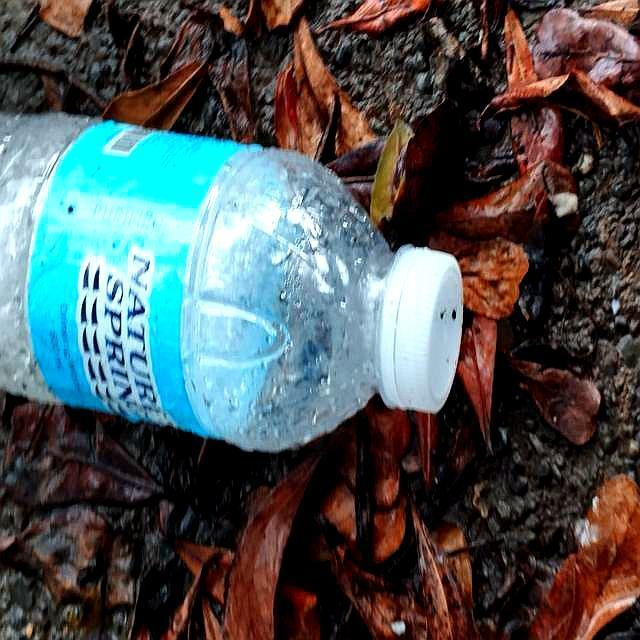Non-biodegradable: (1, 111, 463, 459)
